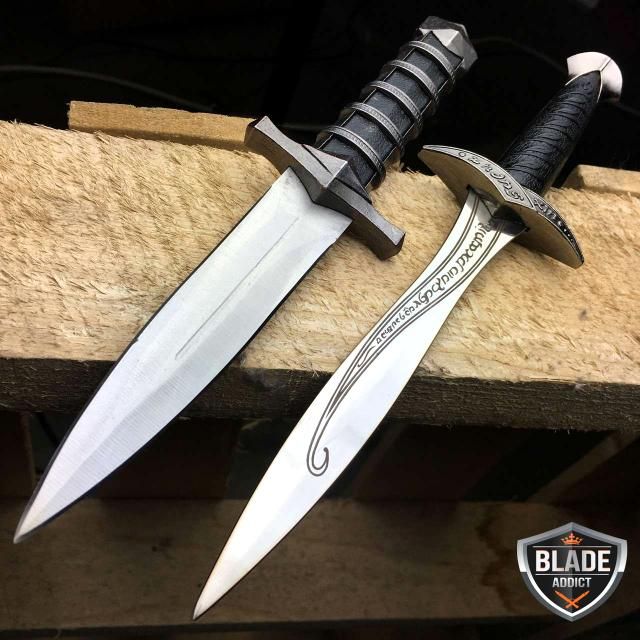short sword: (154, 22, 640, 628), (4, 10, 498, 578)
